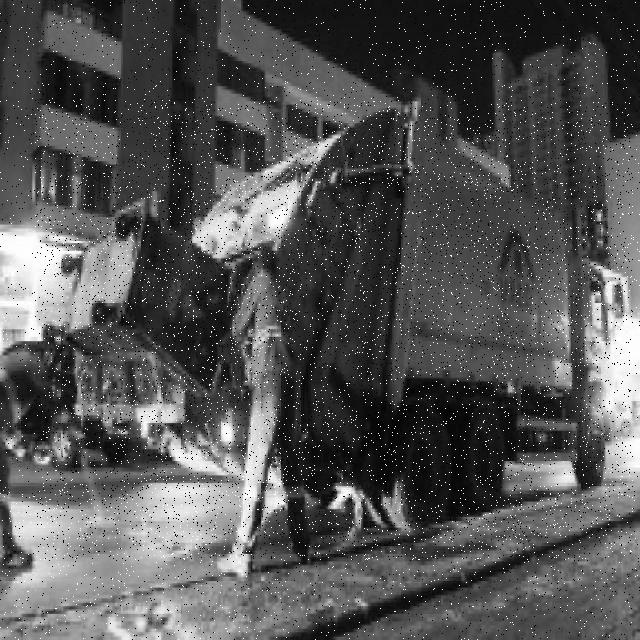Garbage Truck: (35, 101, 633, 560)
